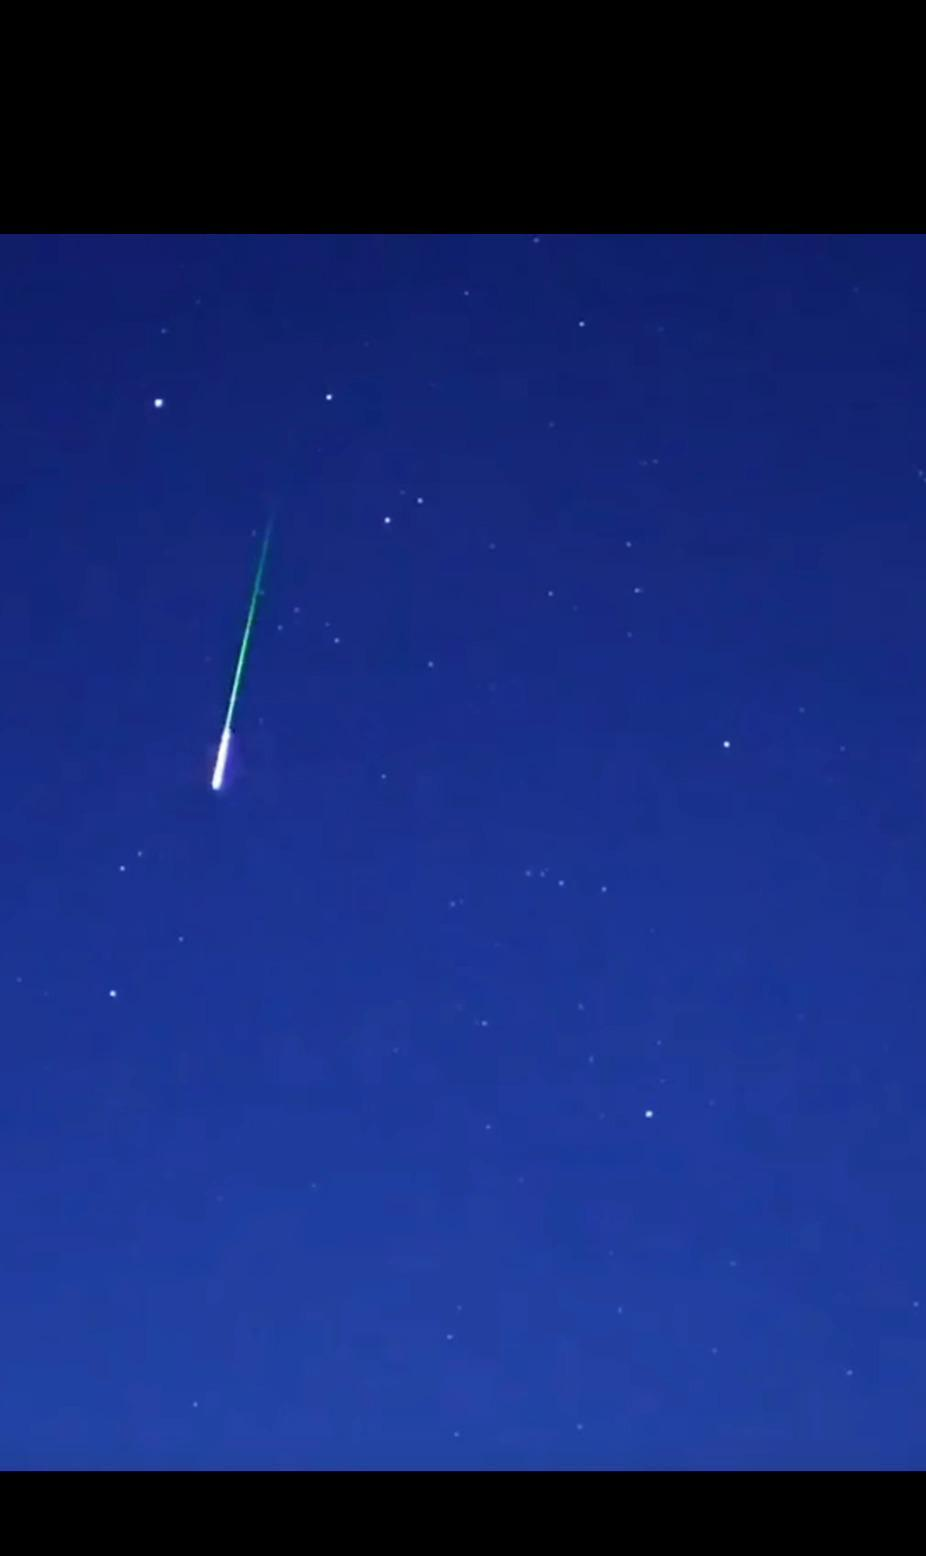meteorite: (182, 483, 302, 815)
